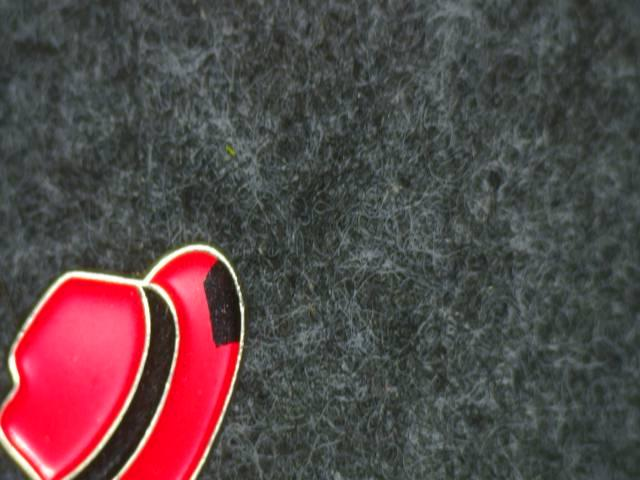Red-Hat: (0, 233, 277, 480)
Scratch: (186, 240, 270, 366)
